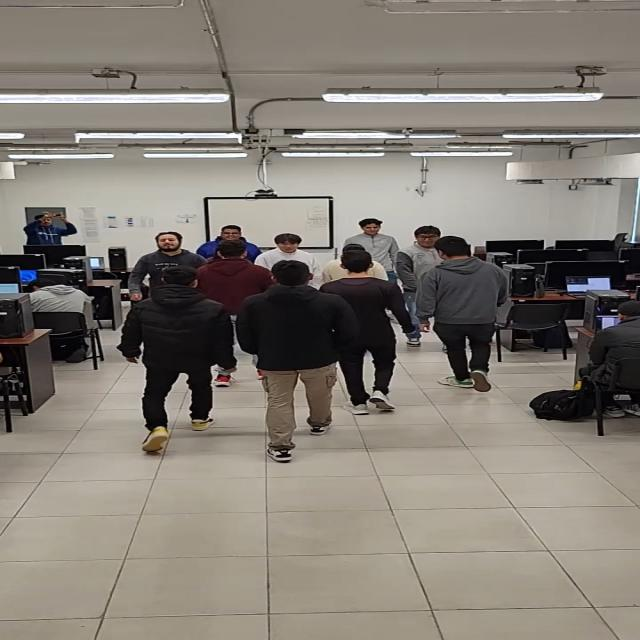Persona: (237, 260, 363, 465), (120, 266, 236, 454), (322, 250, 416, 414), (418, 236, 512, 393), (396, 226, 454, 347), (128, 231, 206, 310), (196, 240, 271, 318), (344, 217, 404, 286), (254, 232, 325, 290), (326, 242, 390, 282), (198, 223, 265, 260)
